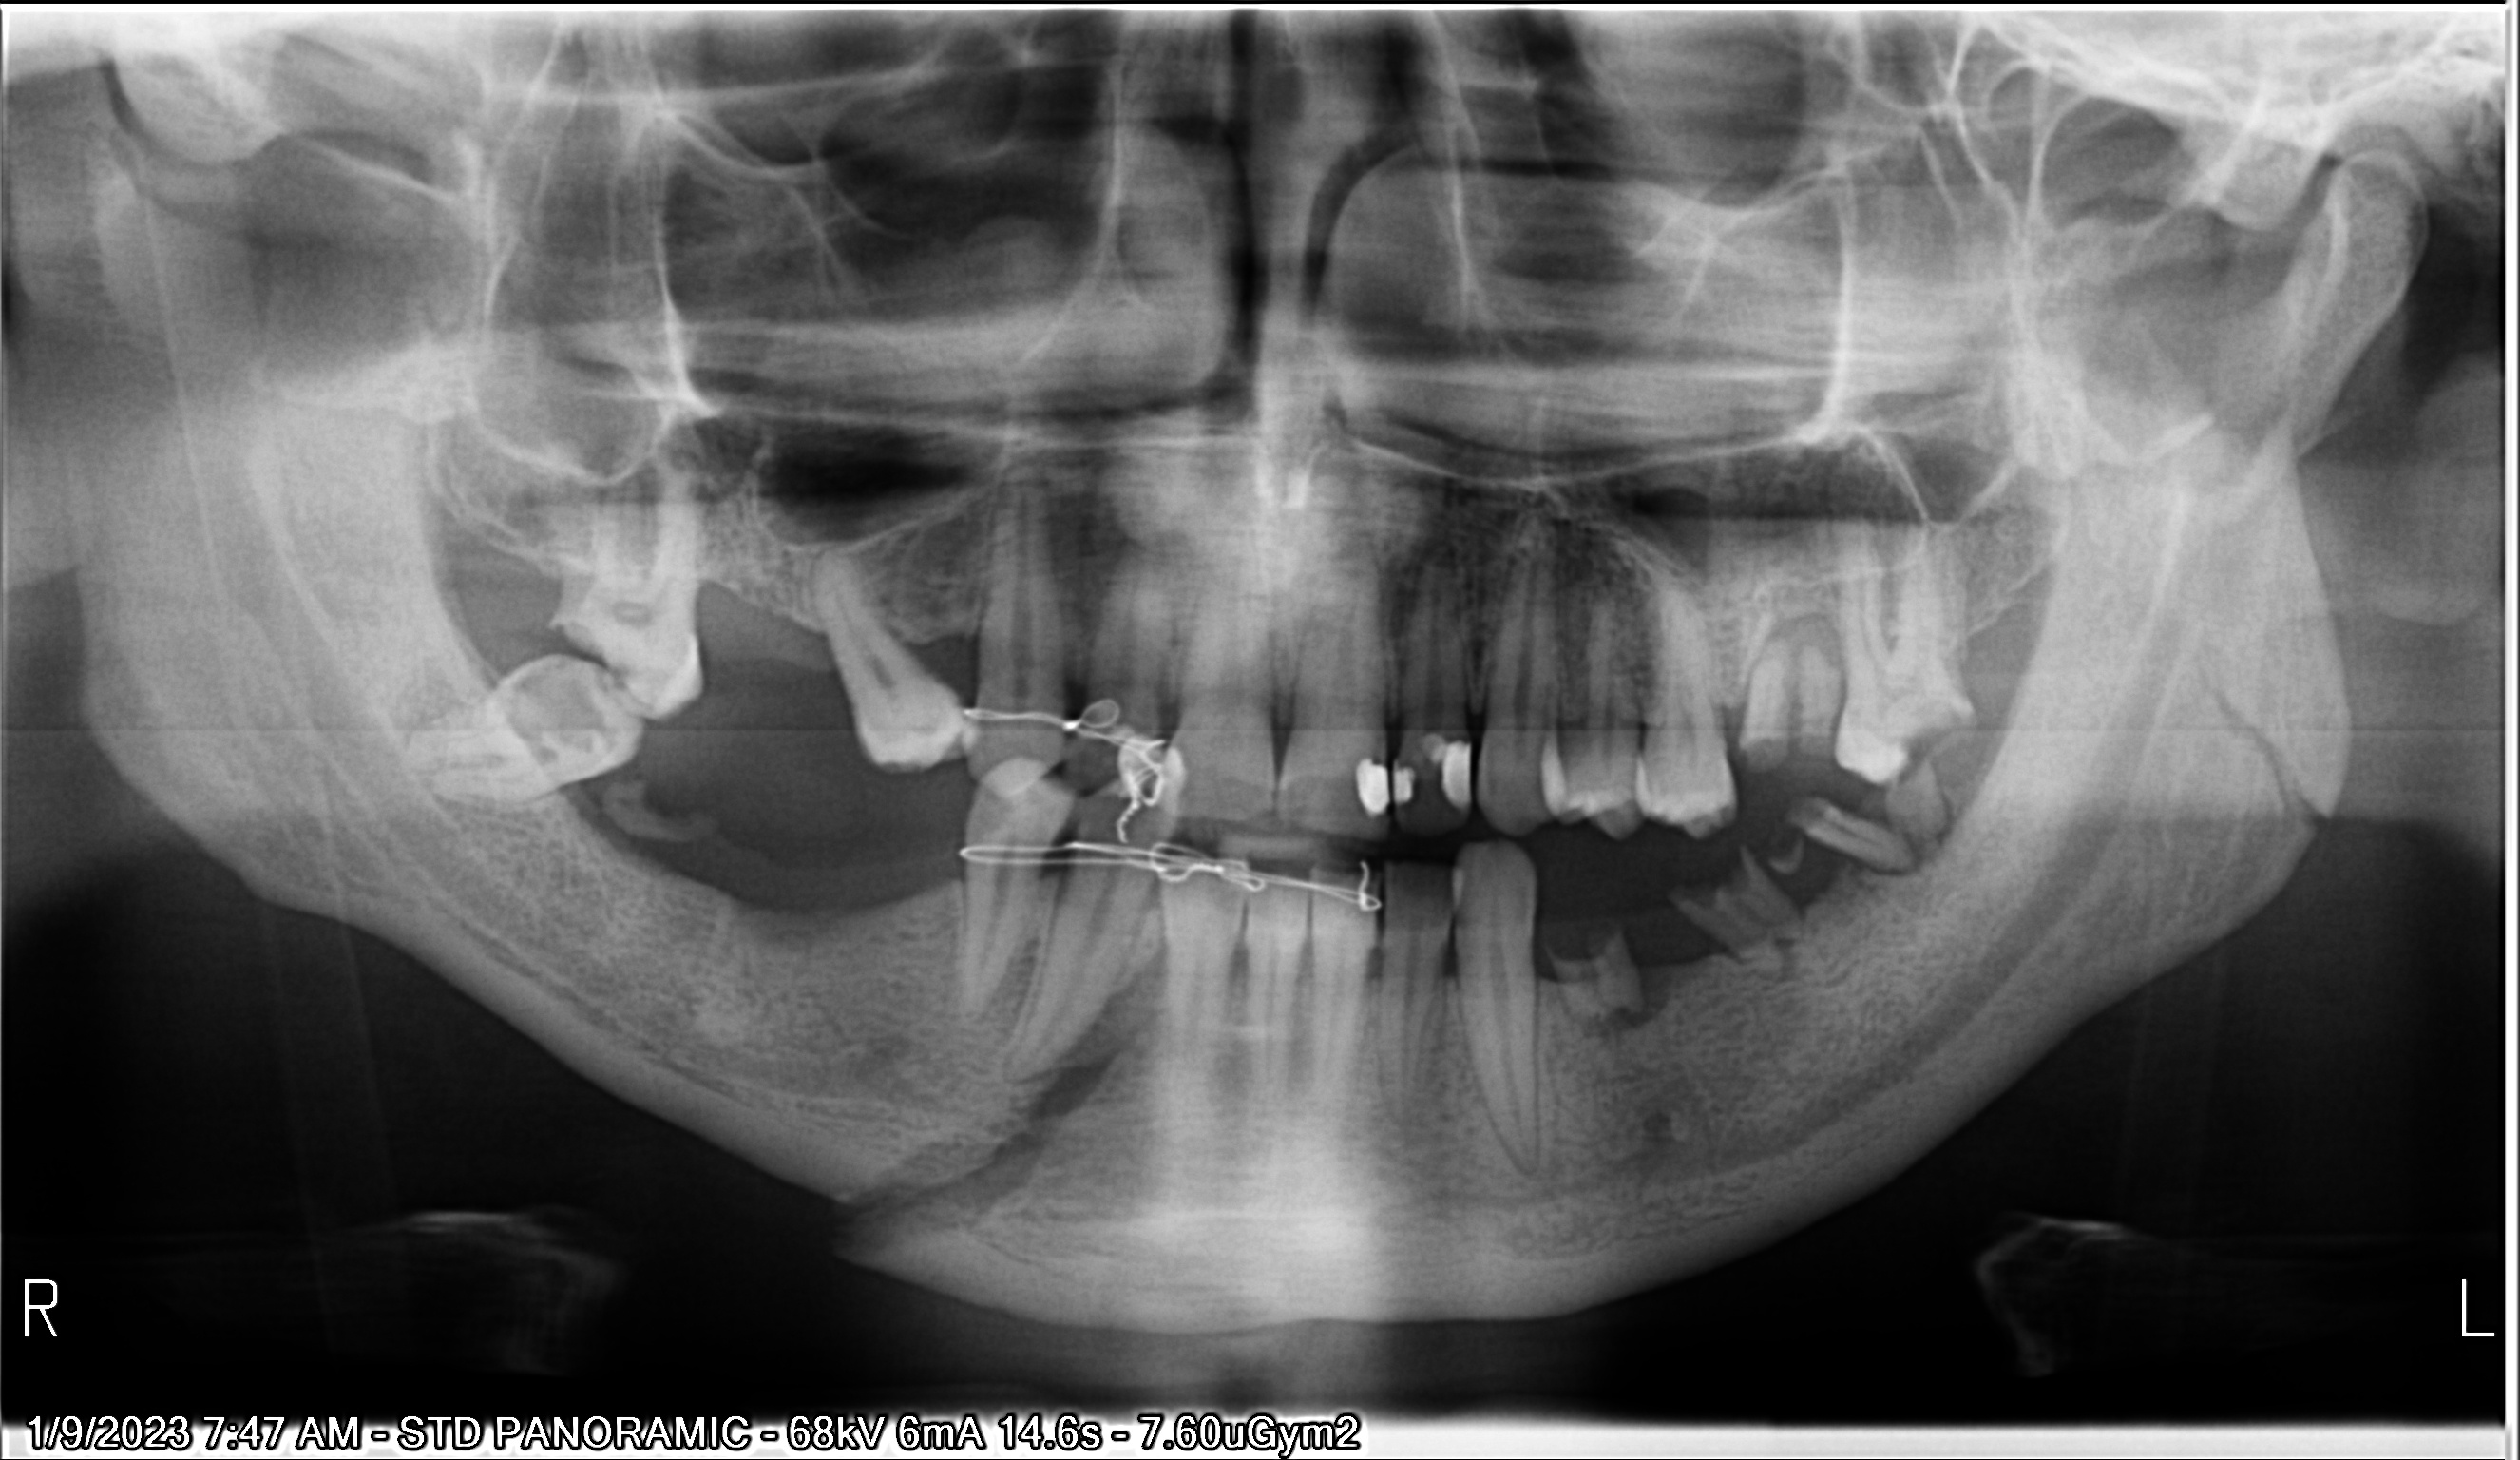CAR: (495, 655, 625, 765), (544, 600, 663, 713), (1872, 674, 1987, 779)
OBT: (1435, 723, 1497, 822), (1325, 744, 1395, 826), (1395, 749, 1433, 813), (1412, 716, 1436, 758)
ROT: (1796, 780, 1943, 899), (1540, 916, 1676, 1041), (1669, 885, 1811, 998), (1782, 615, 1870, 773), (1869, 751, 1989, 864), (1719, 839, 1825, 954), (1732, 624, 1799, 763), (1758, 822, 1822, 890)
SRD: (934, 674, 1403, 939)
